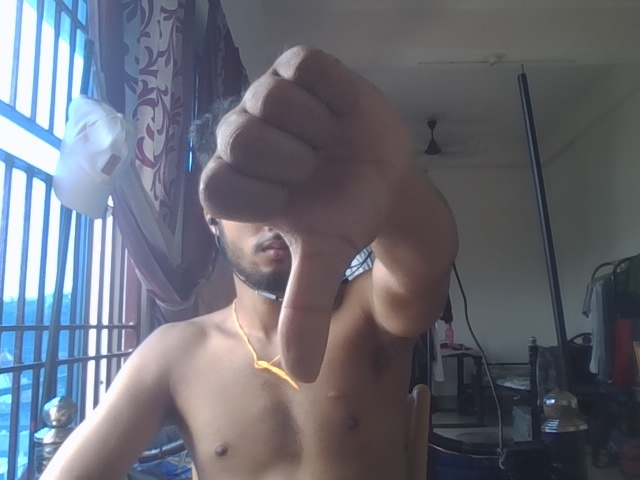Loser: (195, 41, 422, 386)
